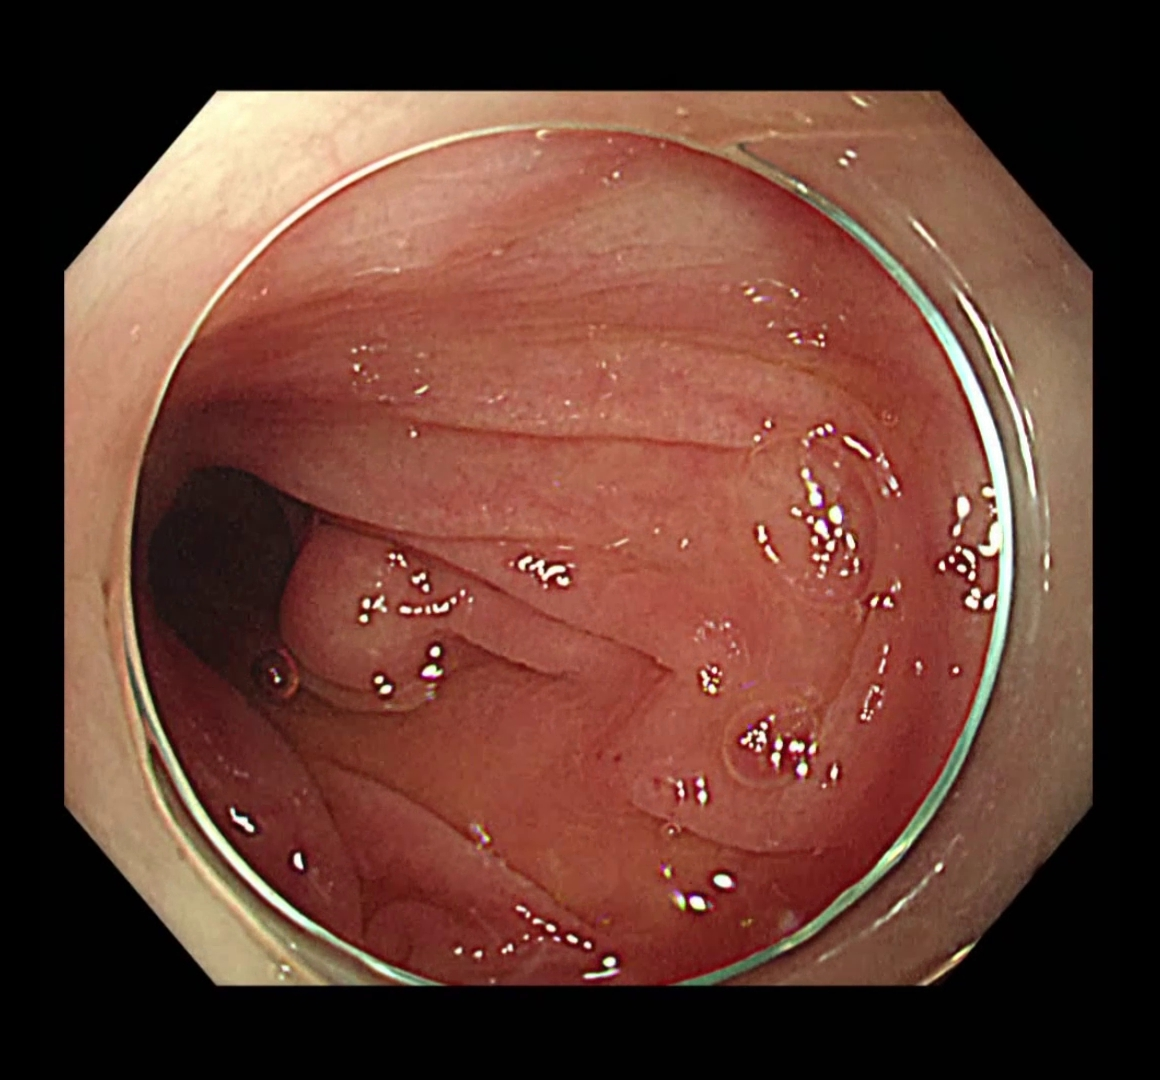polyp: (732, 583, 994, 966)
